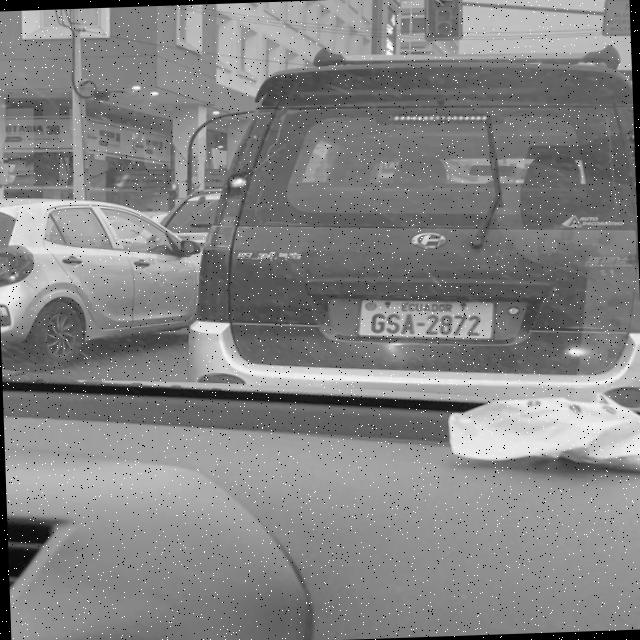Placa: (357, 299, 496, 340)
